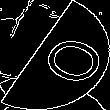O_NW: (14, 24, 96, 86)
